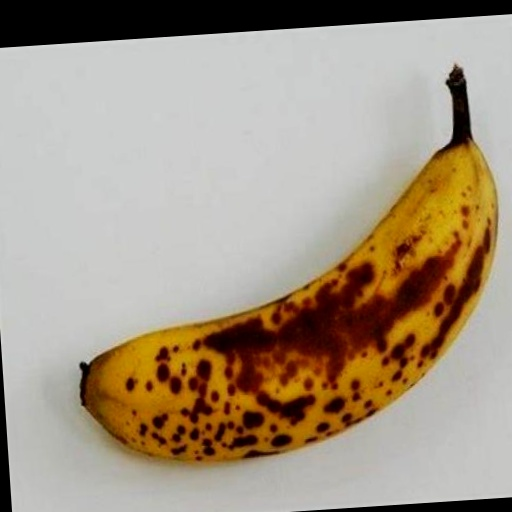fruit: (80, 67, 496, 460)
